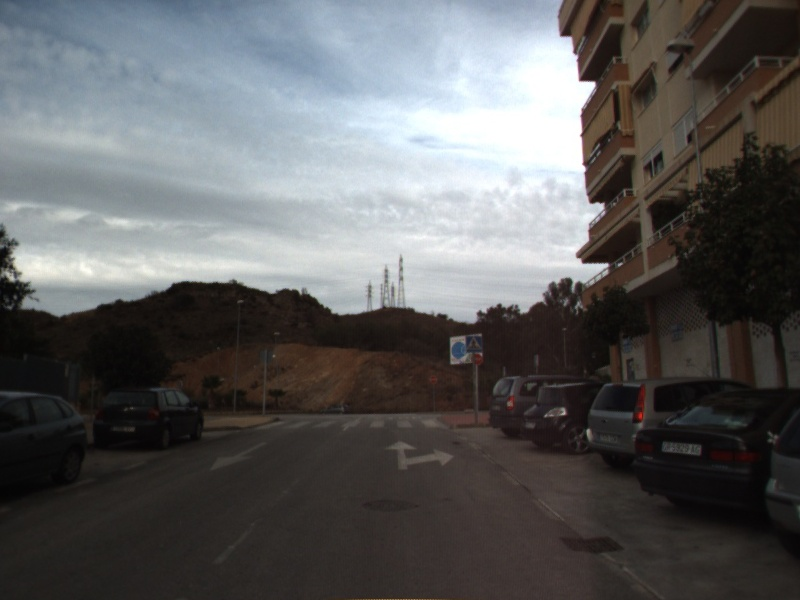STRAIGHT_RIGHT: (382, 438, 456, 472)
